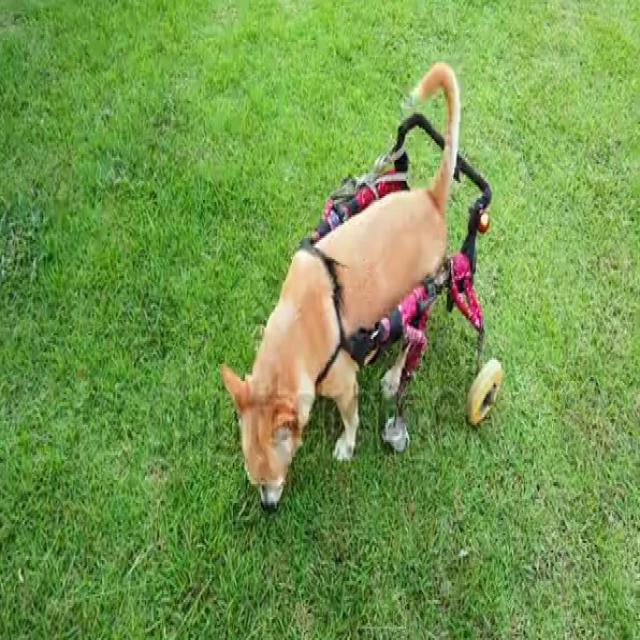injured-animals: (217, 57, 500, 516)
